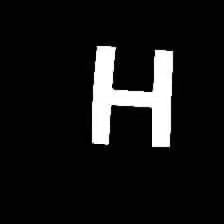LTR_H: (83, 35, 174, 154)
